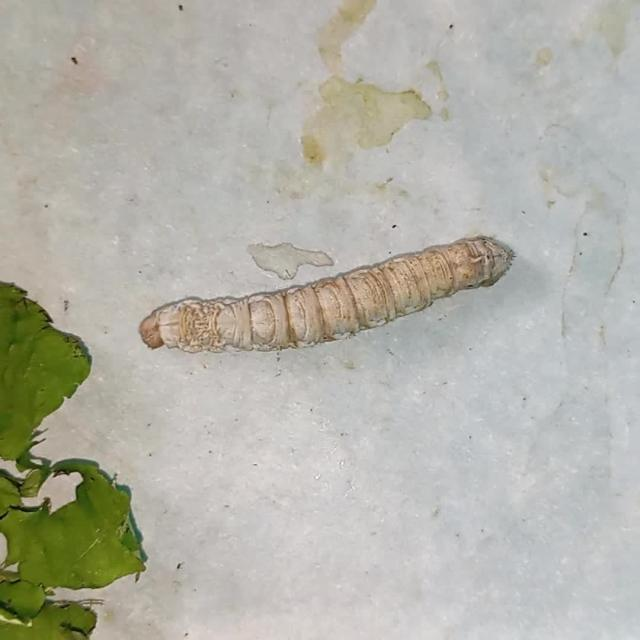Grasserie: (136, 230, 516, 367)
